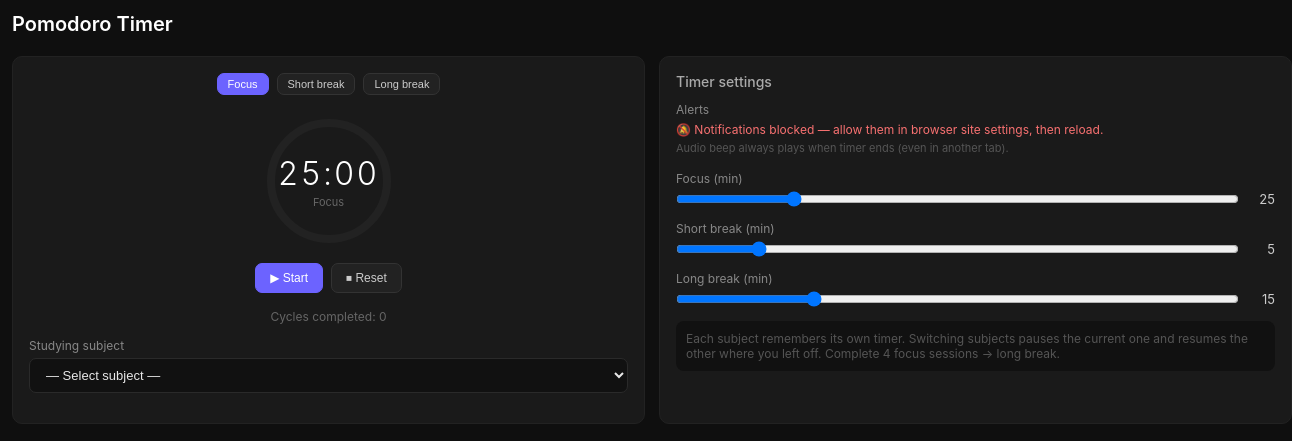
Test: Pomodoro › switching to short break changes time to 5:00
Click the button "Short break" at (316, 84), box [276,73,355,95]
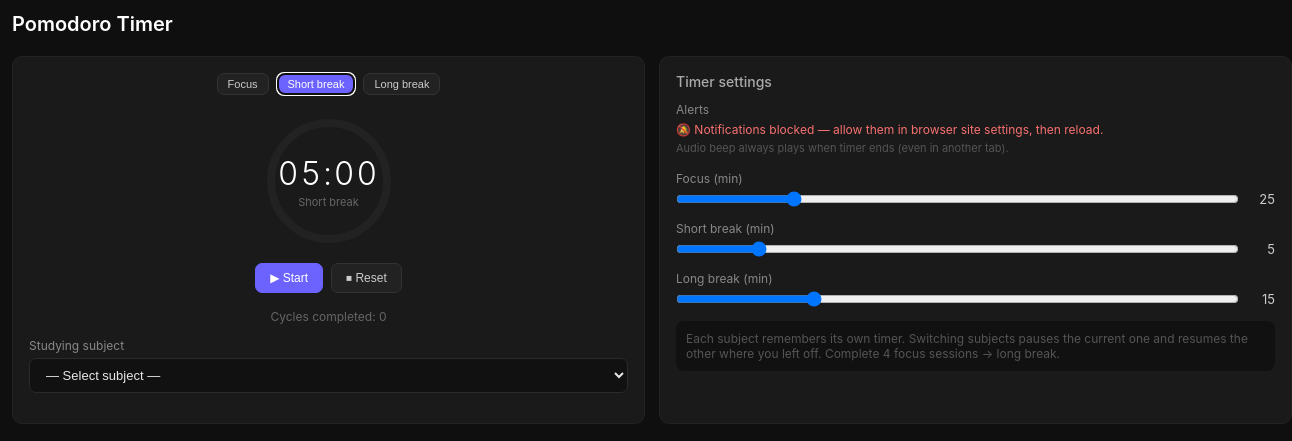
Expected: the text "05:00" is shown, [278,154,379,192]
